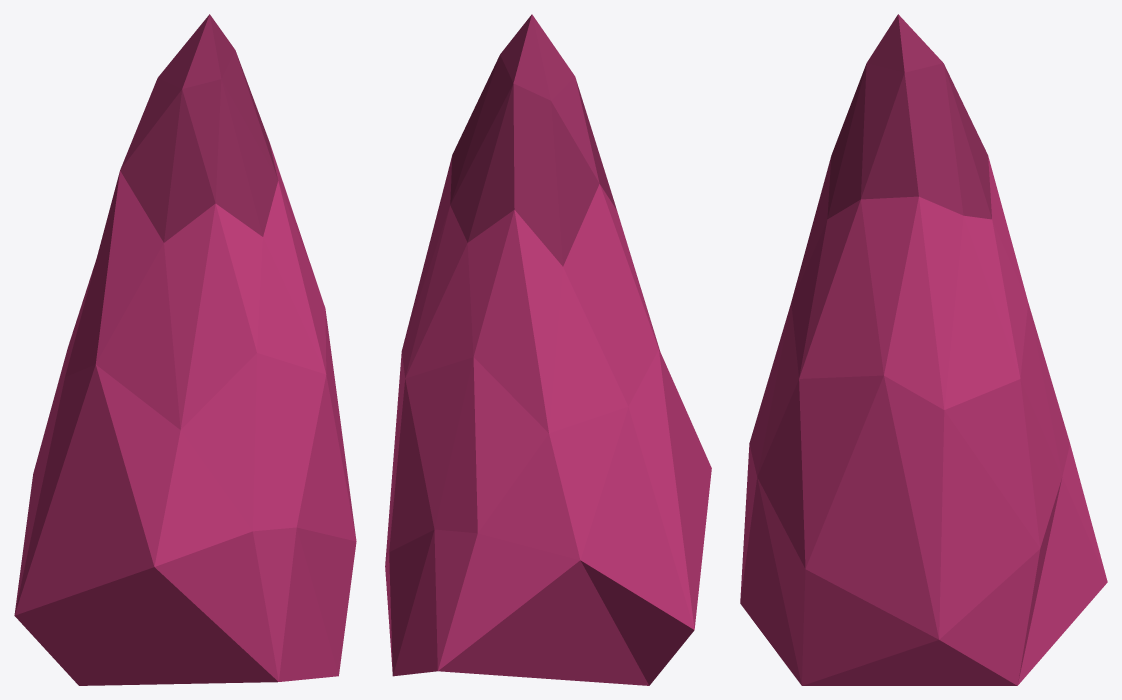
File: Tree_6_Pink.fbx
The picture shows the model from 3 angles, left to right: view 1: azimuth 30°, elevation 25°; view 2: azimuth 150°, elevation 25°; view 3: azimuth 270°, elevation 25°; orthographic projection.
Parts seen in each view (by area): view 1: Tree_6_Pink; view 2: Tree_6_Pink; view 3: Tree_6_Pink.
Part boxes in pixels (x1,y1,x2,y2): Tree_6_Pink: (14,14,356,685); Tree_6_Pink: (385,14,711,685); Tree_6_Pink: (740,14,1107,685).
Size of the model in its own units: 394 by 793 by 415.
